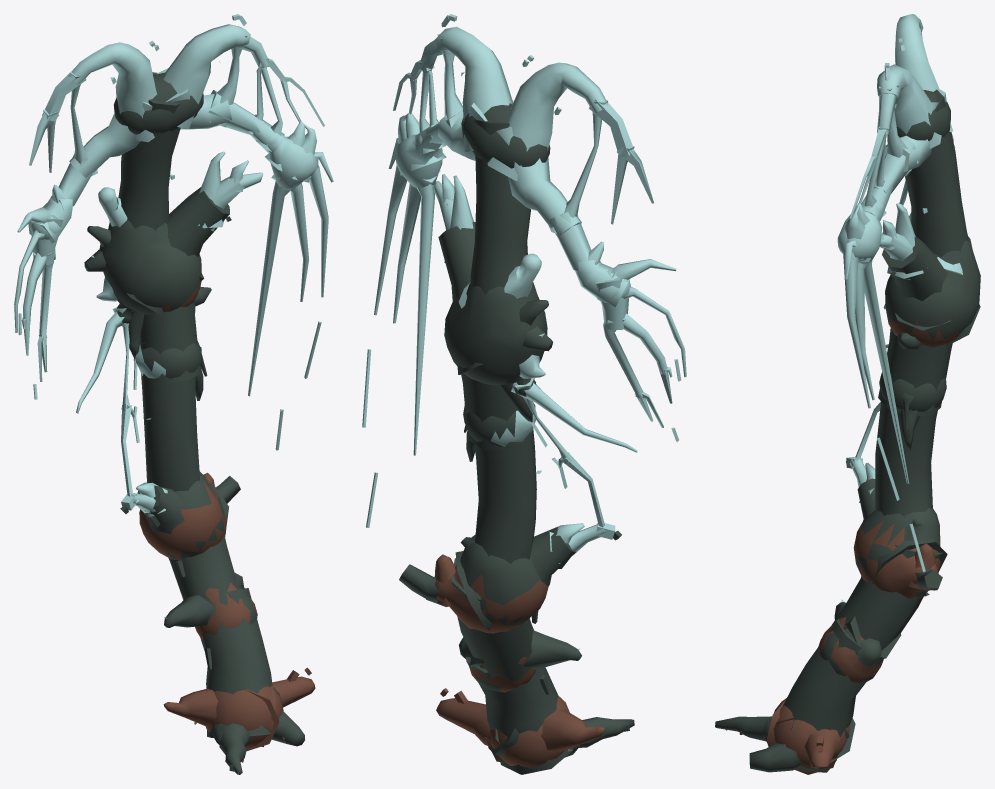
Rendered from stingfrond.glb.
3 views of the same model, side by side, from view 1: azimuth 30°, elevation 25°; view 2: azimuth 150°, elevation 25°; view 3: azimuth 270°, elevation 25° (orthographic). The views are drawn at different scales.
Parts seen in each view (by area): view 1: body; view 2: body; view 3: body.
Boxes of the visible parts, left/top/right/bottom form: body: left=14, top=14, right=333, bottom=774; body: left=362, top=14, right=686, bottom=774; body: left=715, top=14, right=980, bottom=774.
Bounding box in the file's own units: 2.29 × 5.14 × 1.72.
